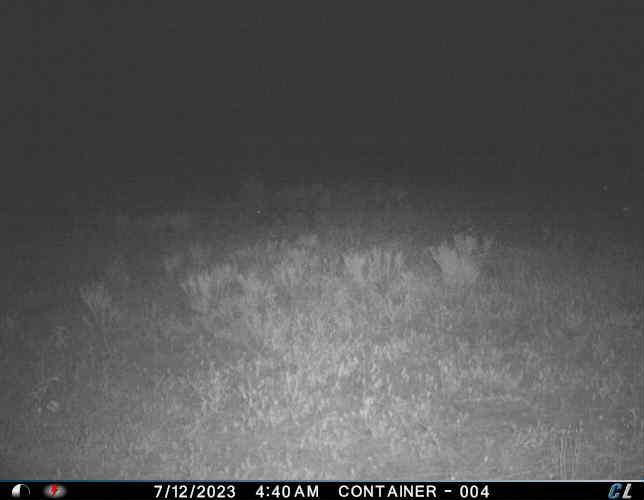Hog: (254, 181, 325, 234)
